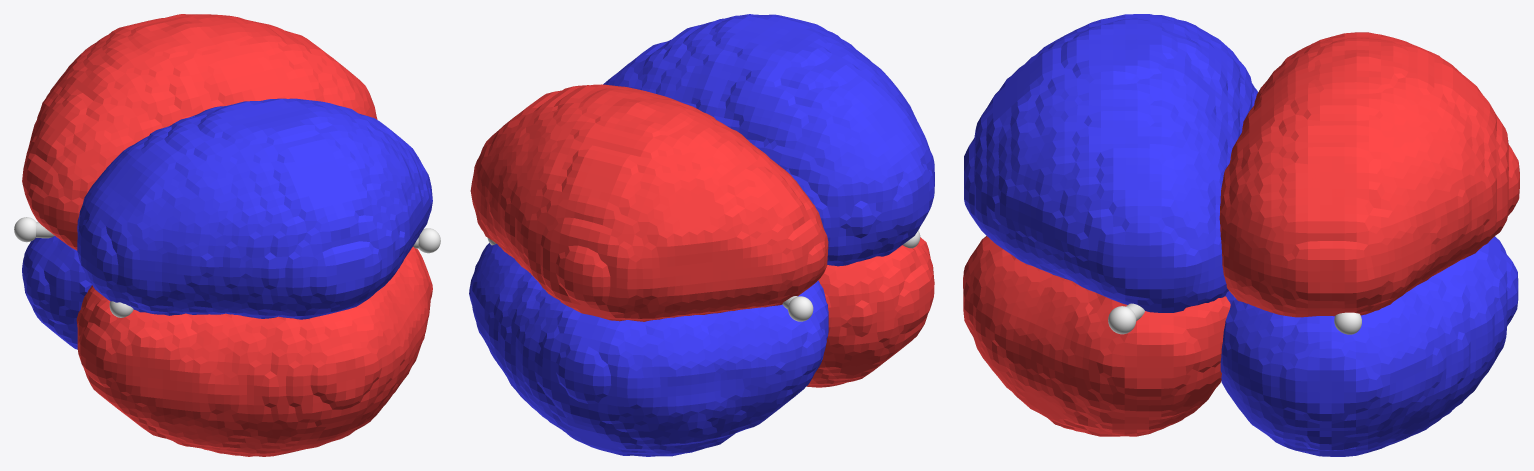
Rendered from benzene.glb.
3 renders of one model, left to right at view 1: azimuth 30°, elevation 25°; view 2: azimuth 150°, elevation 25°; view 3: azimuth 270°, elevation 25°, orthographic. The views are drawn at different scales.
Parts seen in each view (by area): view 1: MO_HOMO_Benzene, Atom_Benzene_11_H, Atom_Benzene_8_H; view 2: MO_HOMO_Benzene, Atom_Benzene_8_H; view 3: MO_HOMO_Benzene, Atom_Benzene_11_H.
Boxes of the visible parts, x1,y1,x2,y2 form: MO_HOMO_Benzene: (22,14,432,456); Atom_Benzene_11_H: (418,228,440,253); Atom_Benzene_8_H: (14,217,36,242); MO_HOMO_Benzene: (469,14,934,456); Atom_Benzene_8_H: (788,296,813,321); MO_HOMO_Benzene: (963,14,1519,456); Atom_Benzene_11_H: (1108,306,1136,334).
Size of the model in its own units: 5.04 by 4.53 by 6.12.
